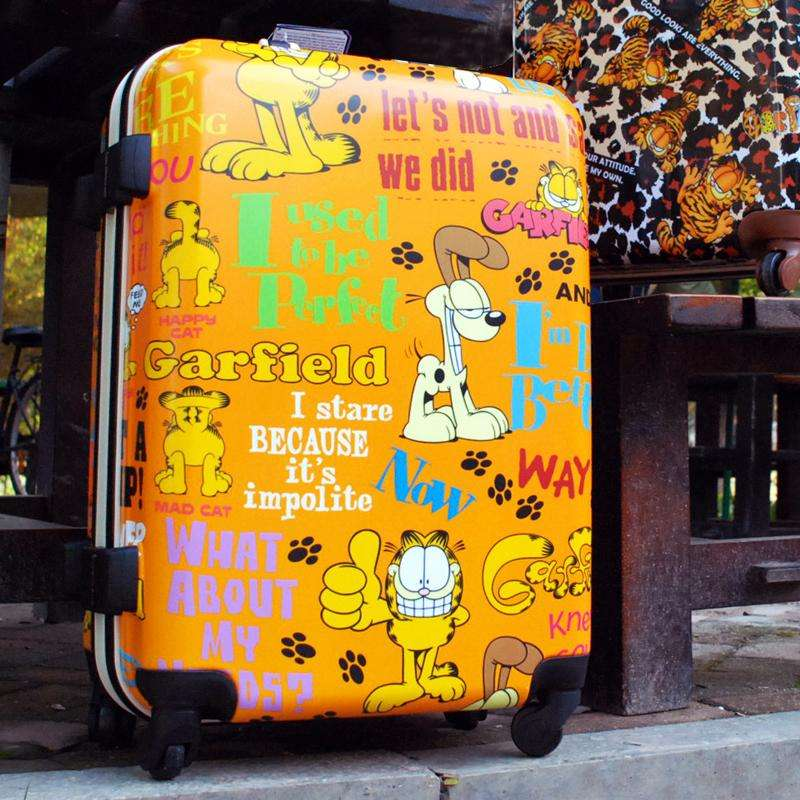box: (80, 37, 590, 732)
wheel: (139, 714, 200, 783), (509, 703, 564, 759)
